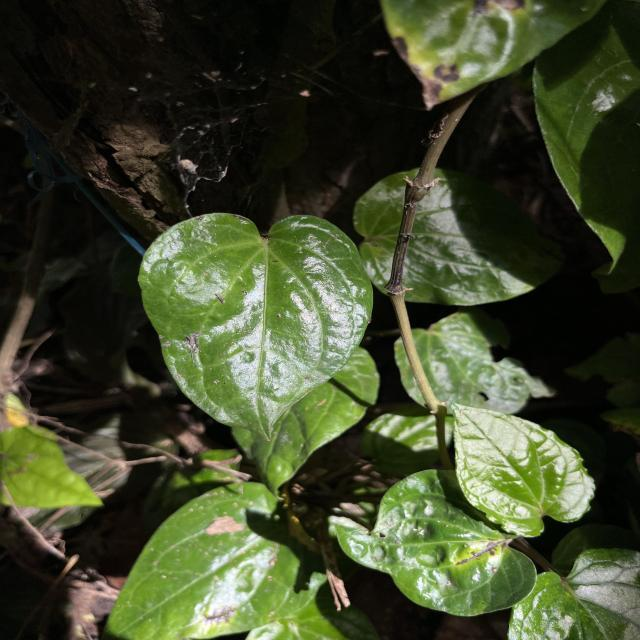Piper betle: (136, 210, 376, 444)
